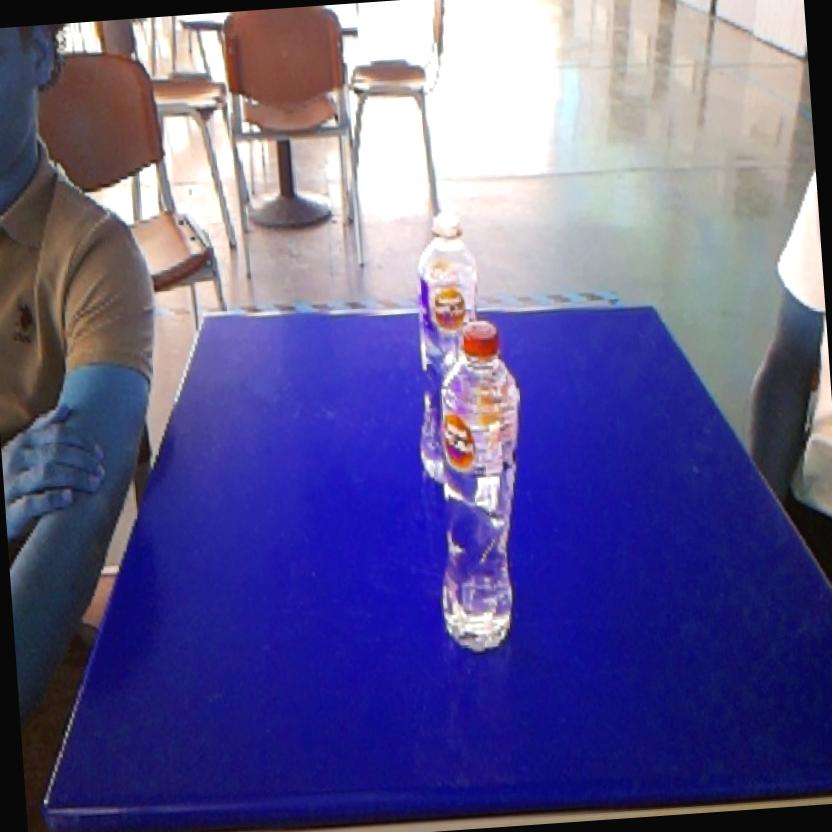good: (418, 316, 544, 668)
no_cap: (406, 202, 488, 324)
